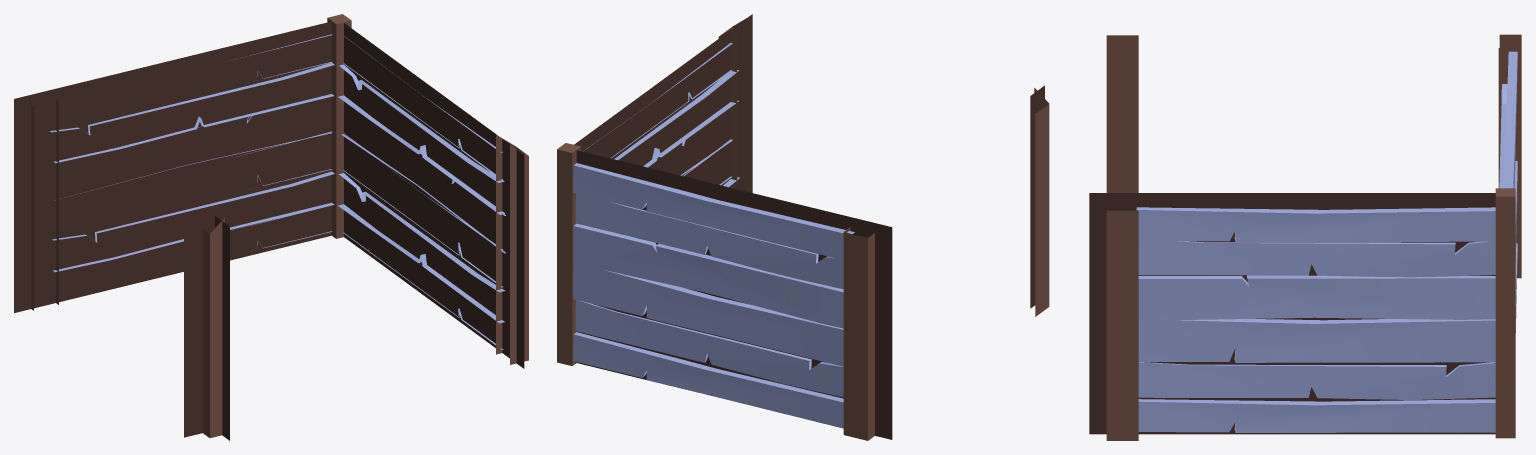
Rendered from Building_Angle_001.glb.
3 views of the same model, side by side, from view 1: azimuth 30°, elevation 25°; view 2: azimuth 150°, elevation 25°; view 3: azimuth 270°, elevation 25° (orthographic). The views are drawn at different scales.
Parts seen in each view (by area): view 1: Building_Angle_001; view 2: Building_Angle_001; view 3: Building_Angle_001.
Boxes of the visible parts, x1,y1,x2,y2 form: Building_Angle_001: (14,14,528,440); Building_Angle_001: (557,14,1049,440); Building_Angle_001: (1089,34,1521,440).
Size of the model in its own units: 7.4 by 4.61 by 7.29.
1 material, 1 textured.
